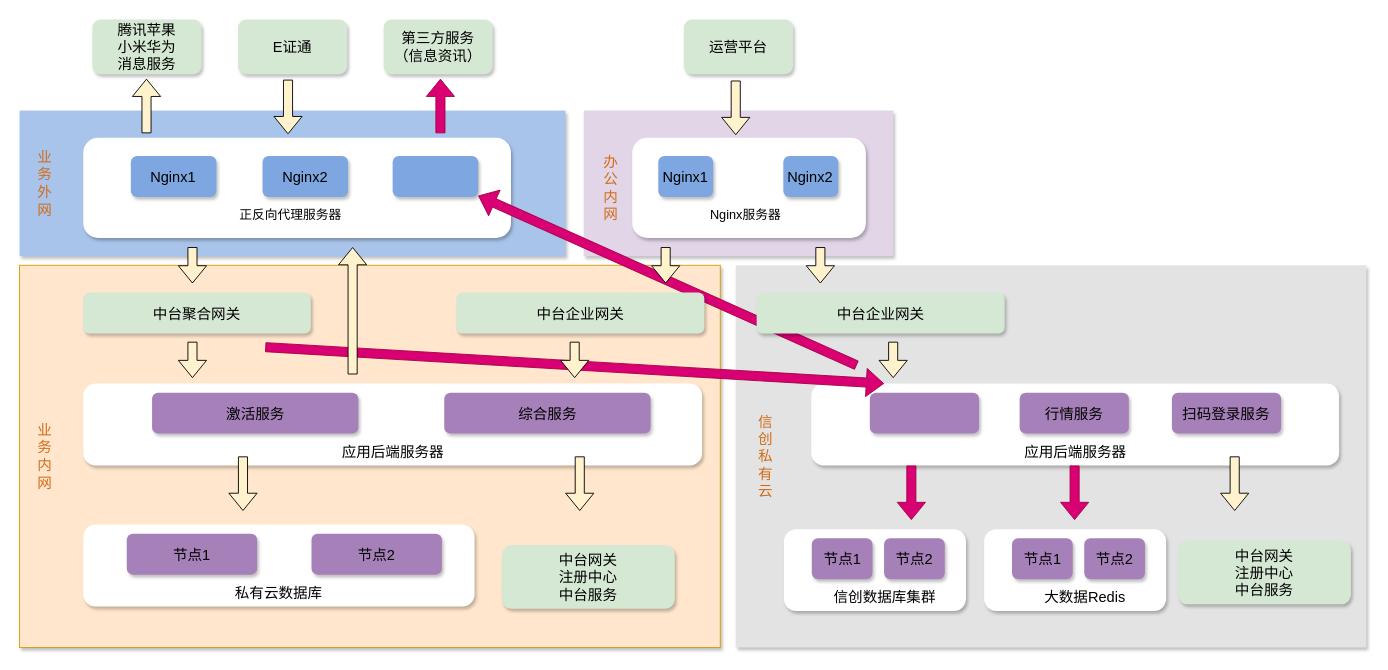
This 1388x670 diagram has some shape labels left out. Each missing label, with the centre of its shape:
"Nginx3 （新增）" goes at pixel 436 177.
"资讯服务" goes at pixel 925 414.
